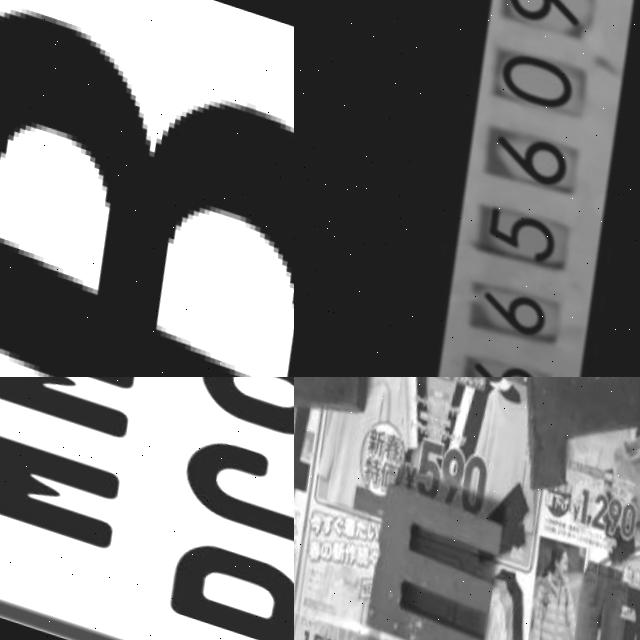0: (480, 37, 578, 114)
5: (463, 196, 556, 267)
6: (470, 116, 573, 195), (452, 274, 545, 344), (441, 345, 537, 377)
8: (180, 377, 294, 475)
9: (488, 0, 588, 37)
B: (0, 6, 294, 377)
G: (162, 417, 294, 575)
M: (339, 462, 512, 640), (0, 392, 121, 548), (0, 377, 142, 441)
P: (145, 524, 294, 640)
T: (486, 377, 640, 518)
